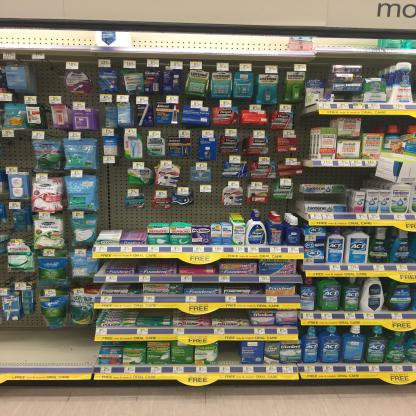Void: (2, 328, 92, 364), (102, 165, 124, 206), (308, 169, 366, 184), (98, 210, 145, 227), (151, 211, 226, 221), (4, 142, 33, 166), (220, 342, 242, 367), (297, 119, 310, 158), (41, 74, 63, 93), (198, 194, 219, 207), (365, 117, 383, 131), (308, 195, 340, 201), (218, 311, 250, 317), (141, 310, 169, 315), (316, 118, 332, 126)
